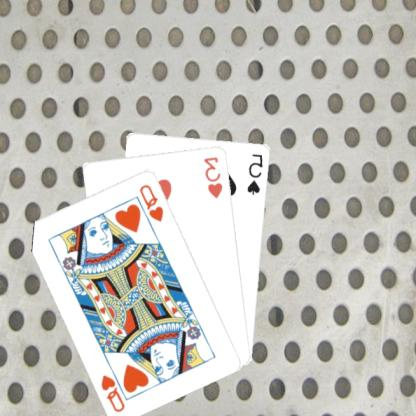3H: (203, 154, 226, 199)
5S: (247, 150, 266, 196)
QH: (100, 362, 132, 414), (138, 180, 167, 223)
